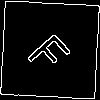F: (25, 25, 79, 78)
